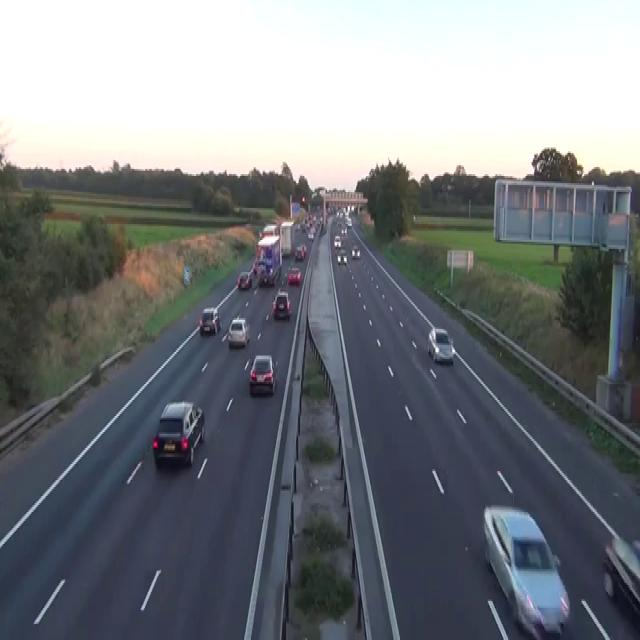Car: (482, 503, 570, 638), (152, 400, 205, 468), (601, 533, 639, 617), (333, 206, 354, 267), (249, 354, 277, 394), (427, 327, 454, 365), (227, 316, 250, 346), (199, 308, 221, 334), (271, 290, 291, 318), (258, 267, 274, 286), (237, 270, 251, 290), (287, 265, 301, 284), (294, 244, 306, 262), (253, 256, 265, 274), (336, 247, 347, 265), (333, 233, 341, 249), (351, 244, 360, 258), (252, 258, 258, 274), (257, 258, 265, 270), (307, 229, 314, 240), (340, 226, 347, 236), (320, 224, 326, 235), (345, 217, 352, 226), (301, 244, 306, 256), (294, 224, 300, 231)
Truck: (254, 233, 282, 286), (261, 220, 294, 256), (280, 220, 294, 256)
